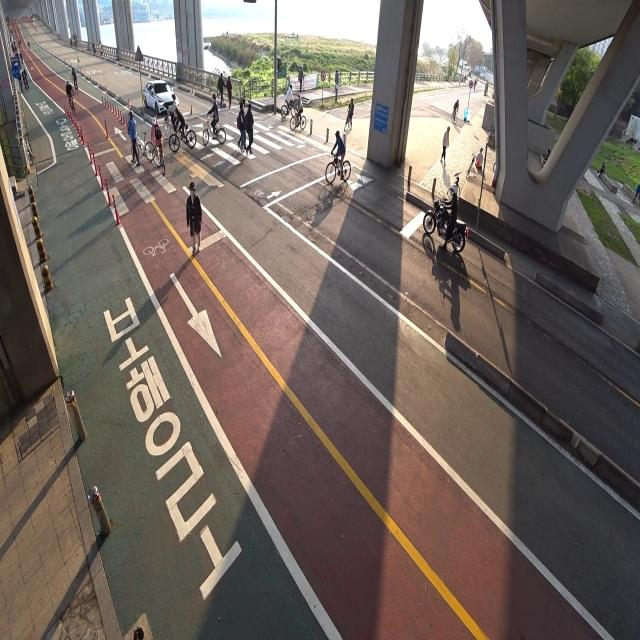Car: (140, 68, 181, 114)
Motorcycle: (421, 178, 467, 252)
